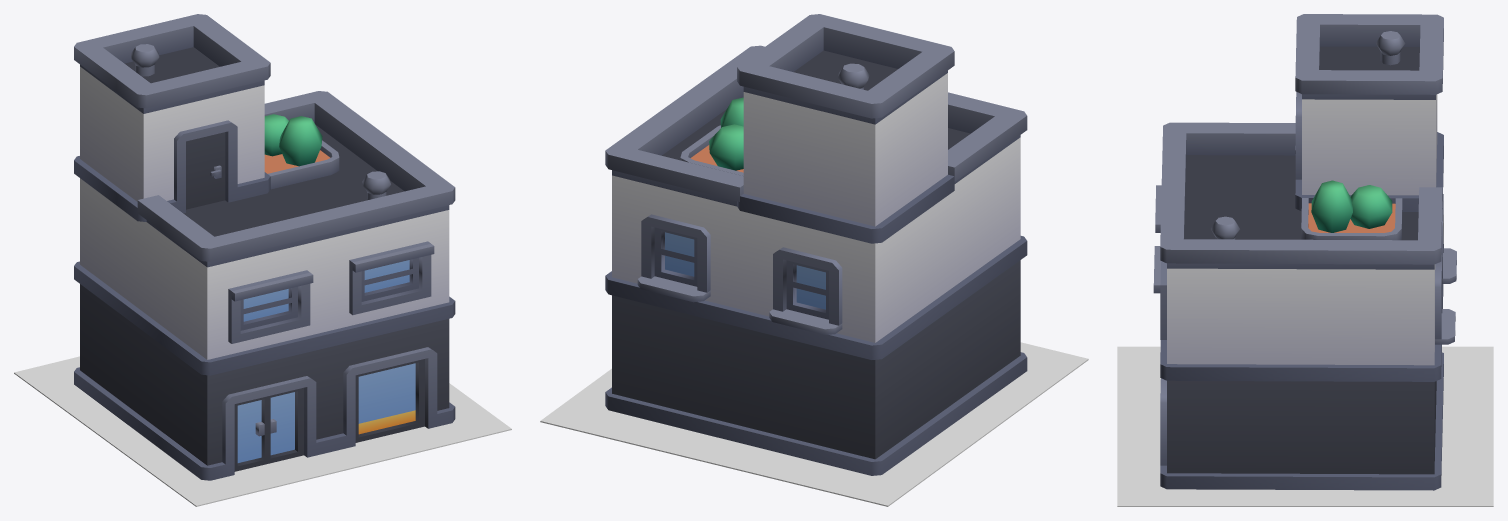
The picture shows the model from 3 angles, left to right: view 1: azimuth 30°, elevation 25°; view 2: azimuth 150°, elevation 25°; view 3: azimuth 270°, elevation 25°; orthographic projection. The views are drawn at different scales.
Visible parts, largest first — view 1: building-d, Cube; view 2: building-d, Cube; view 3: building-d, Cube.
Part boxes in pixels (x1=…): building-d: x1=74, y1=14, x2=455, y2=480; Cube: x1=14, y1=356, x2=511, y2=506; building-d: x1=605, y1=14, x2=1027, y2=475; Cube: x1=540, y1=342, x2=1088, y2=506; building-d: x1=1153, y1=14, x2=1456, y2=490; Cube: x1=1117, y1=346, x2=1493, y2=506.
Size of the model in its own units: 30 by 31.08 by 30.
Materials: 2 (1 with a texture image).
